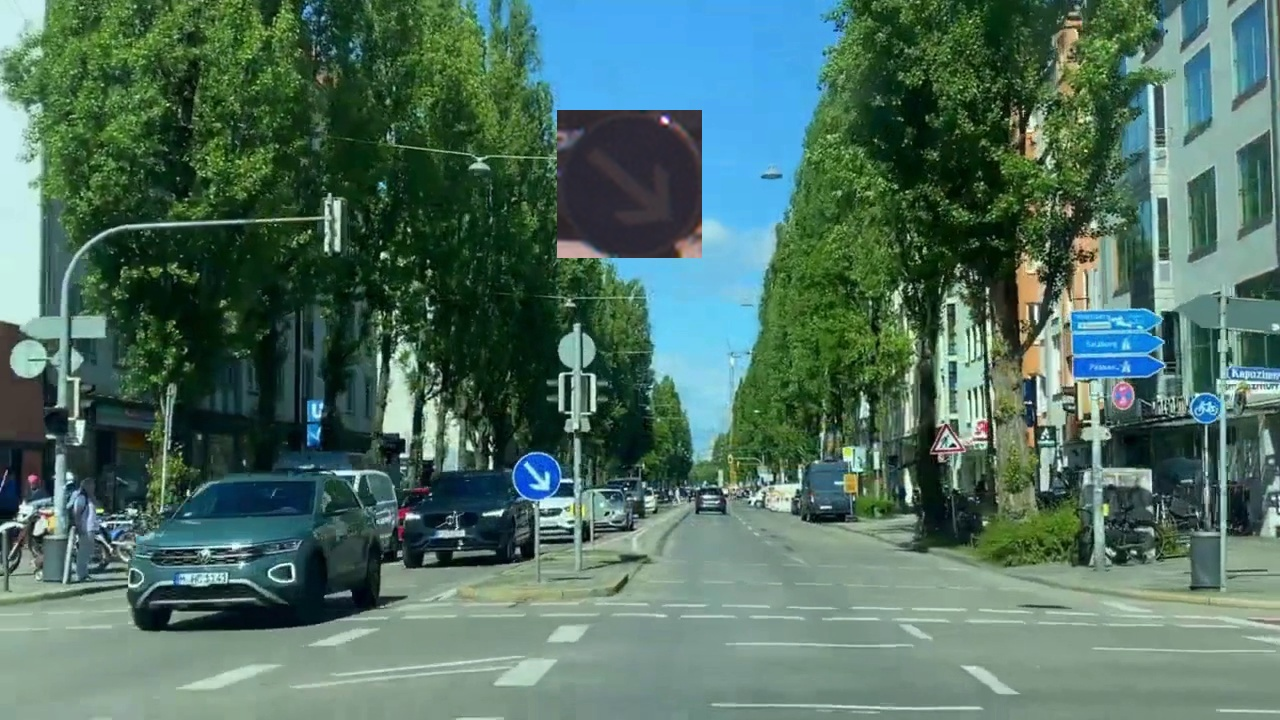Keep right: (557, 110, 702, 258)
